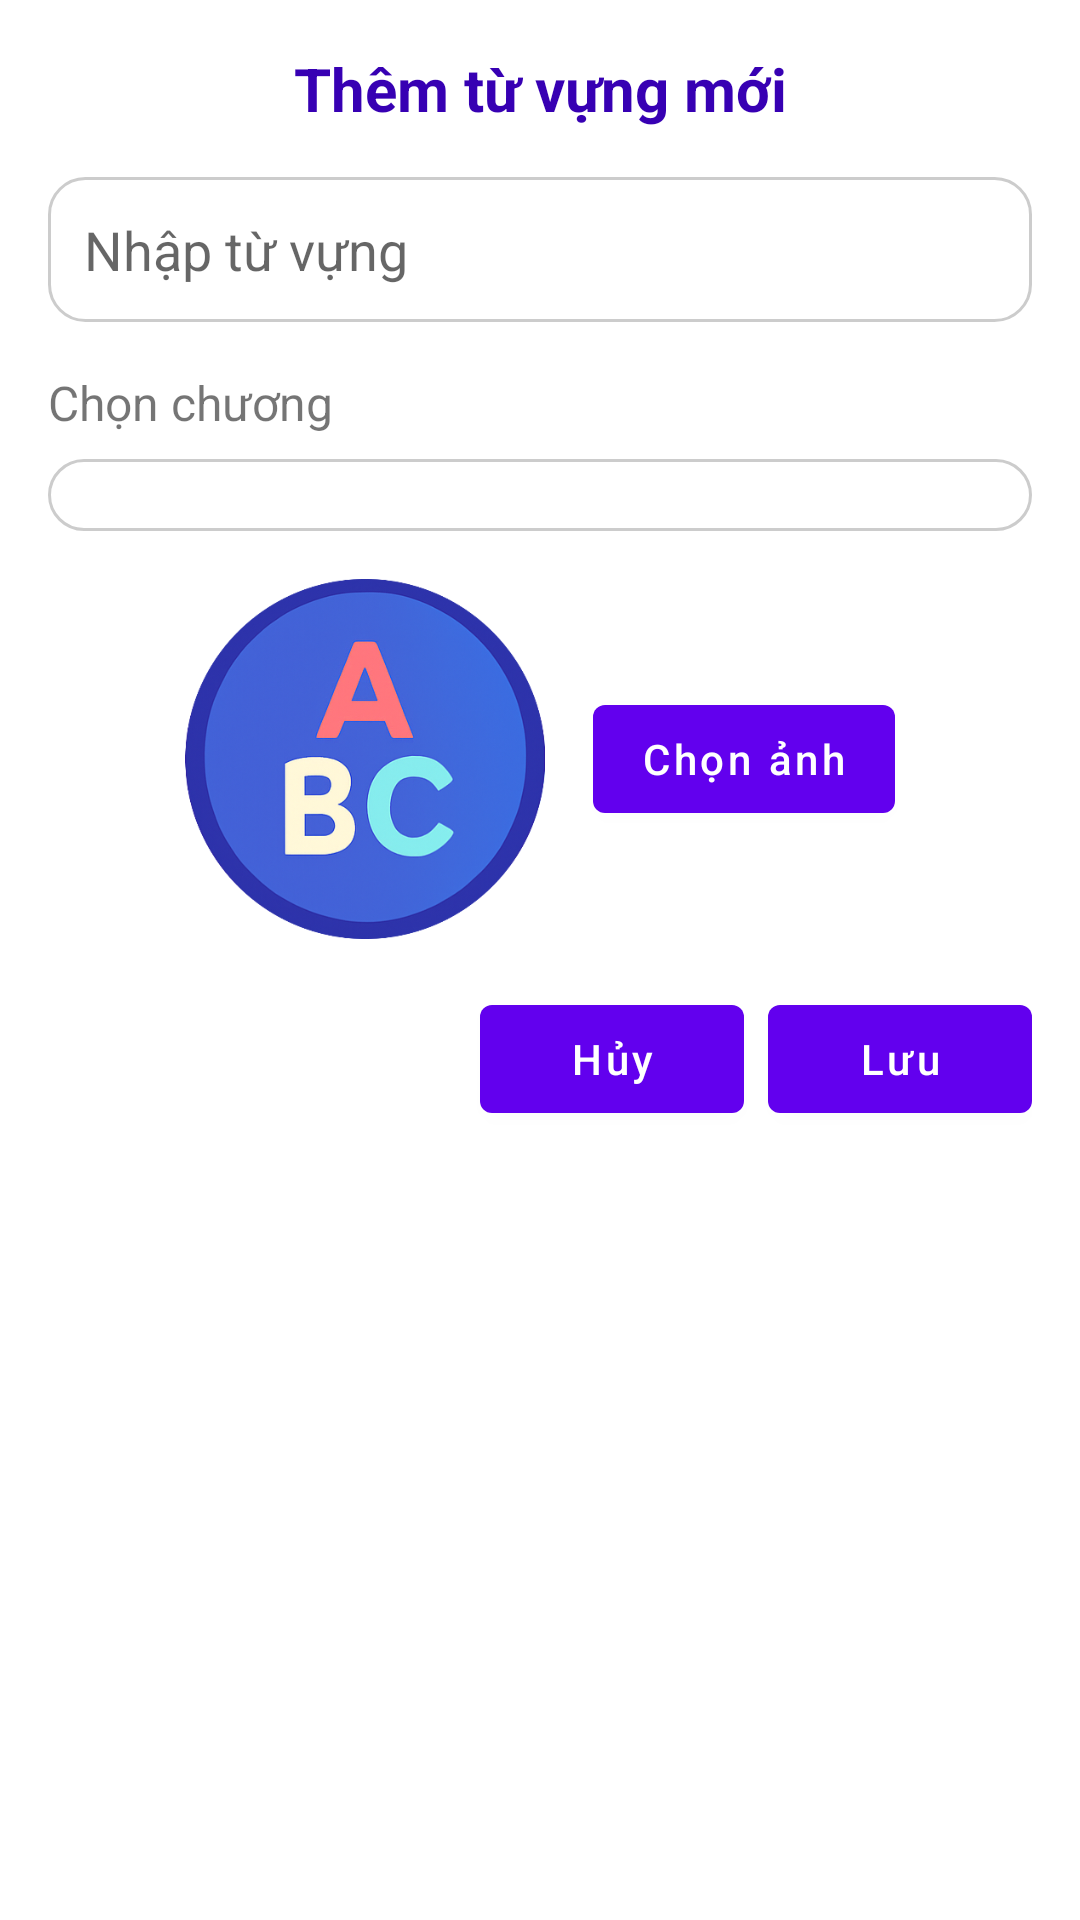

Where icons sit on this 1080px x 1920px app screen, as (x1, y1, x2, y2):
Hình ảnh từ vựng: (185, 579, 545, 939)
